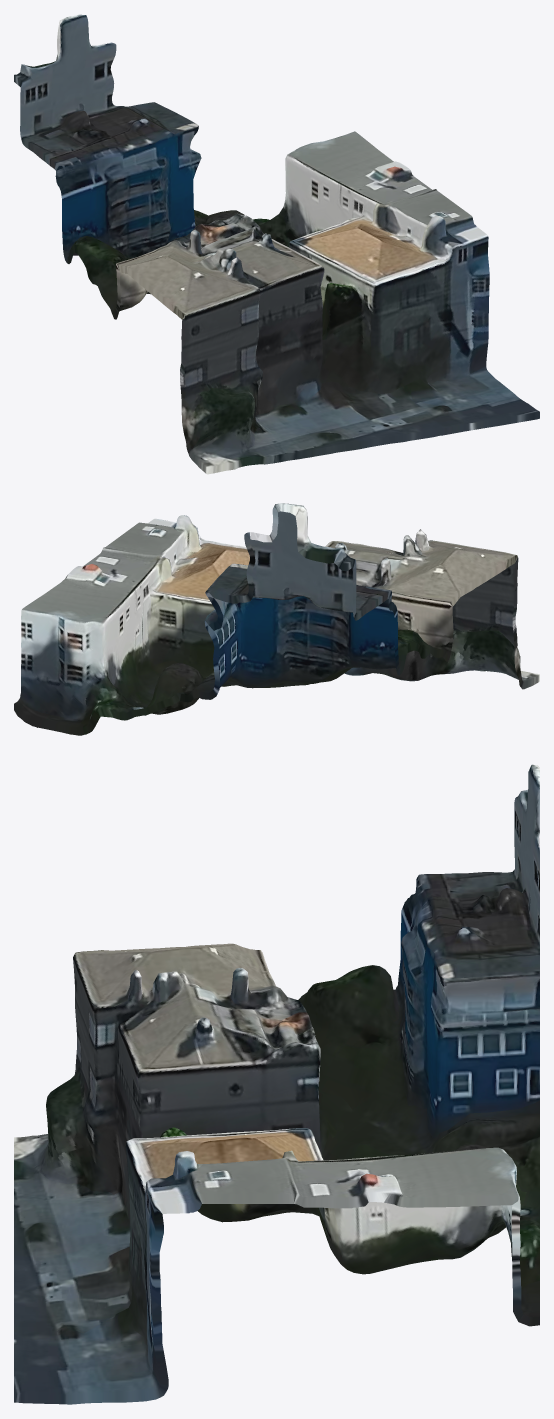
File: z20-167719-405198-h0-yup-uvflip-v3-world.glb
3 views of the same model, one above another, from view 1: azimuth 30°, elevation 25°; view 2: azimuth 150°, elevation 25°; view 3: azimuth 270°, elevation 25° (orthographic). The views are drawn at different scales.
Size of the model in its own units: 30.16 by 28.64 by 30.32.
1 material, 1 textured.
